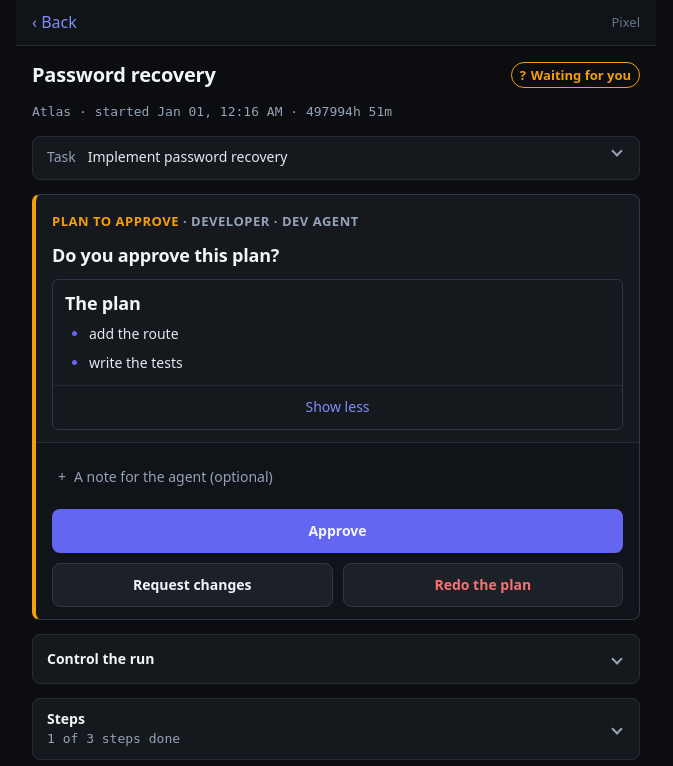
the phone page › a run › approves through the server and shows what the server confirmed
This screenshot has width=673, height=766.
Click the button "Approve" at (338, 531), box [52,509,623,553]
(page scrolled)
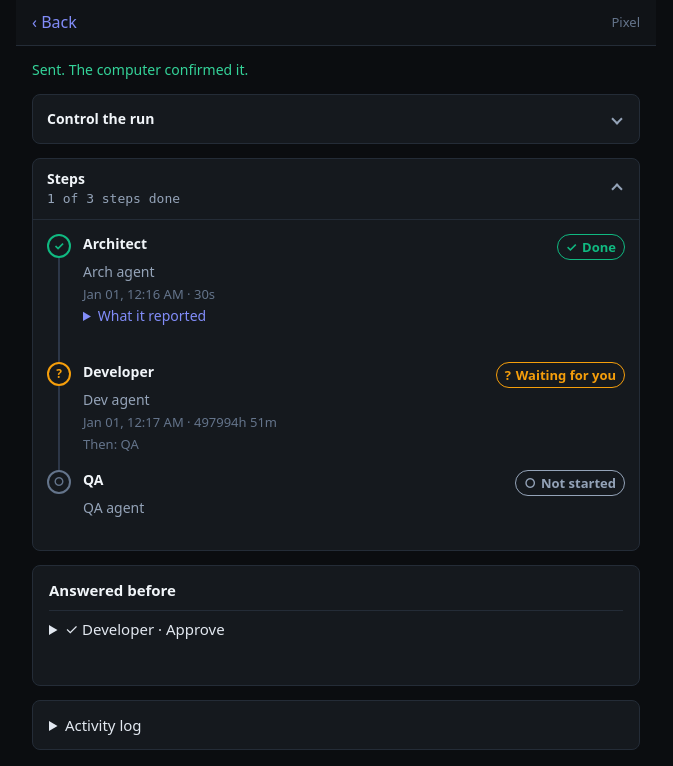
Now the text "Sent. The computer confirmed it." is shown, box [32,60,248,79]
Now the heading "✓ Developer · Approve" is shown, box [65,619,225,639]
